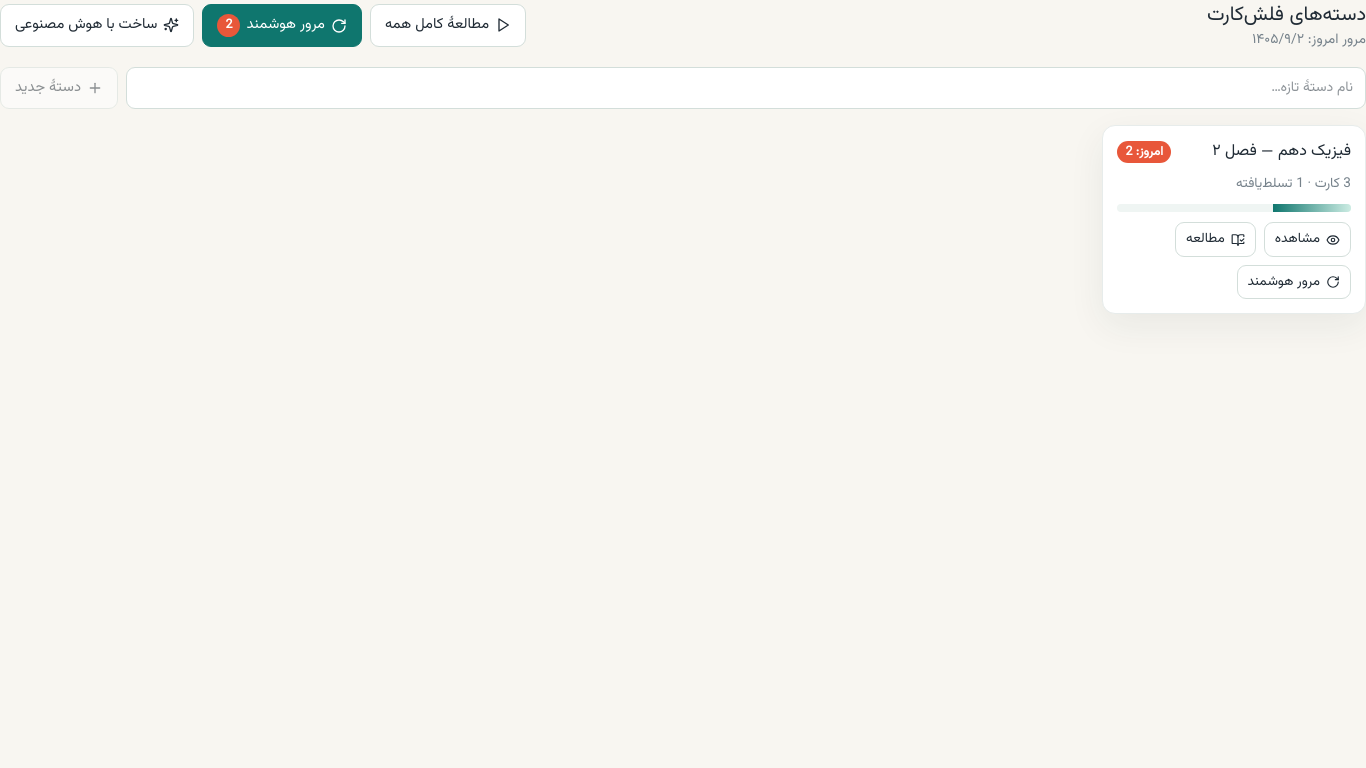
Scenario: generation modal › shows fewer/standard/more and difficulty options plus the custom prompt field
This screenshot has width=1366, height=768.
Click the button "ساخت با هوش مصنوعی" at (97, 26), box x1=0 y1=4 x2=194 y2=47
(page scrolled)
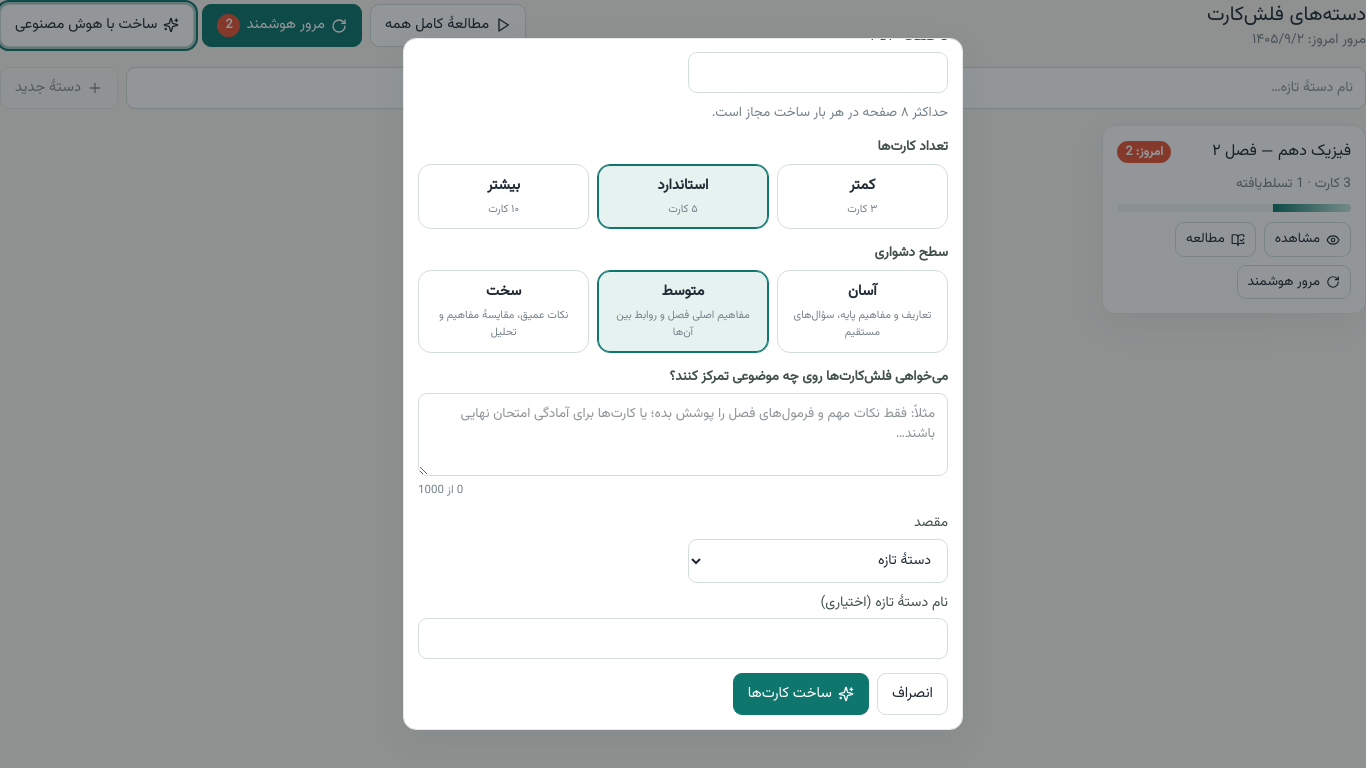
Expected: the radio button labelled "کمتر ۳ کارت" is shown, x1=777 y1=164 x2=948 y2=229
Expected: the radio button labelled "استاندارد ۵ کارت" is shown, x1=597 y1=164 x2=769 y2=229
Expected: the radio button labelled "بیشتر ۱۰ کارت" is shown, x1=418 y1=164 x2=589 y2=229
